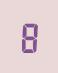eight: (19, 20, 37, 53)
